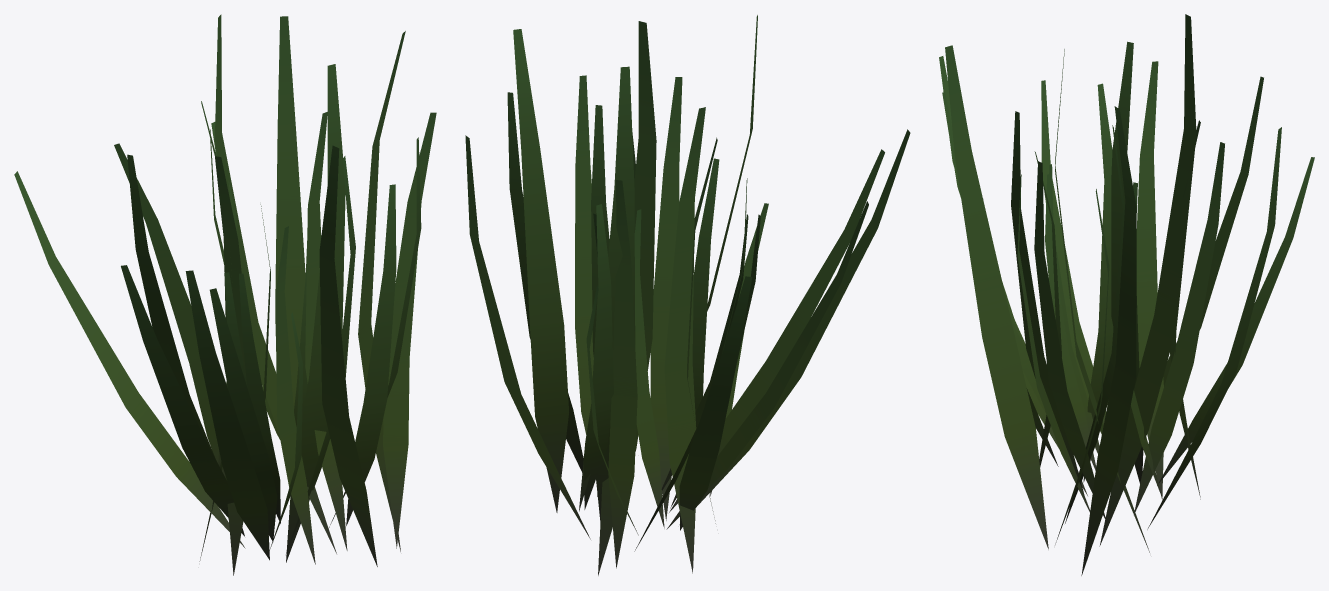
Rendered from underwater-aquatic-plants-seagrass_v3.glb.
3 views of the same model, side by side, from view 1: azimuth 30°, elevation 25°; view 2: azimuth 150°, elevation 25°; view 3: azimuth 270°, elevation 25° (orthographic). The views are drawn at different scales.
Parts seen in each view (by area): view 1: Seagrass_v3; view 2: Seagrass_v3; view 3: Seagrass_v3.
Boxes of the visible parts, box(x1,y1,x2,y2) form: Seagrass_v3: box(14, 14, 436, 575); Seagrass_v3: box(465, 15, 910, 575); Seagrass_v3: box(939, 14, 1314, 575).
Bounding box in the file's own units: 0.3284 × 0.5 × 0.3275.
